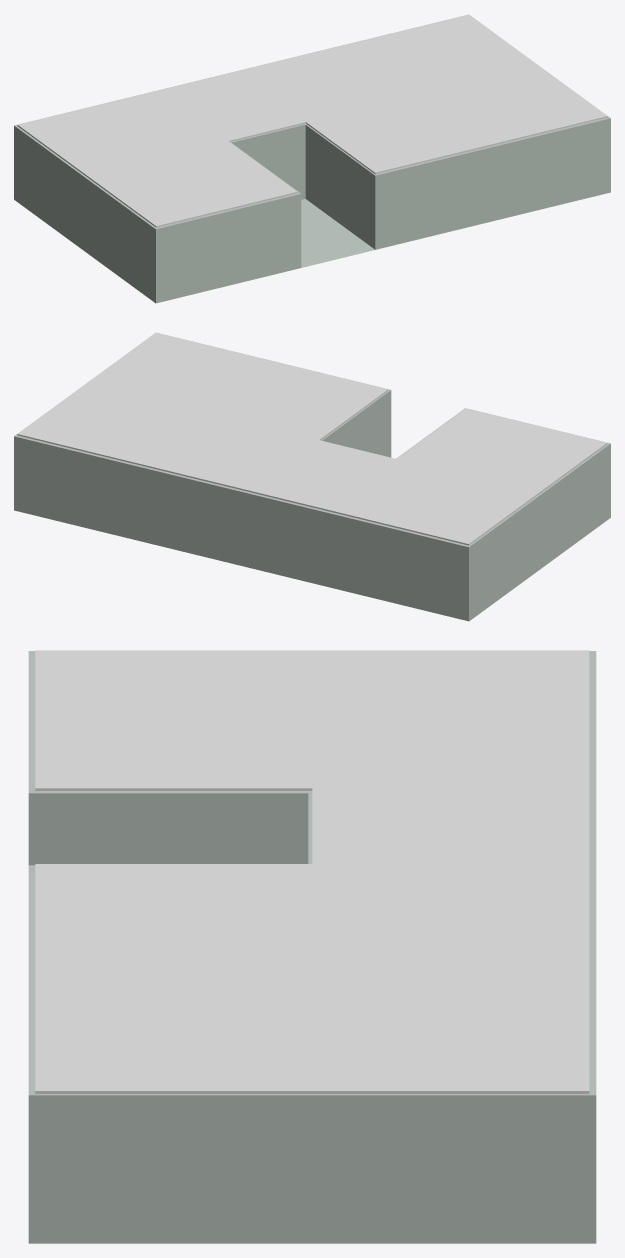
The model's file is upneath floor.fbx.
3 renders of one model, top to bottom at view 1: azimuth 30°, elevation 25°; view 2: azimuth 150°, elevation 25°; view 3: azimuth 270°, elevation 25°, orthographic. The views are drawn at different scales.
Parts seen in each view (by area): view 1: Plane, Cube.009; view 2: Plane, Cube.009; view 3: Plane, Cube.009.
Part boxes in pixels (x1,y1,x2,y2): Plane: (17, 14, 607, 227); Cube.009: (14, 14, 610, 303); Plane: (17, 332, 607, 545); Cube.009: (14, 332, 610, 621); Plane: (35, 650, 589, 1093); Cube.009: (28, 651, 596, 1243).
Bounding box in the file's own units: 10044 × 1594 × 5423.
